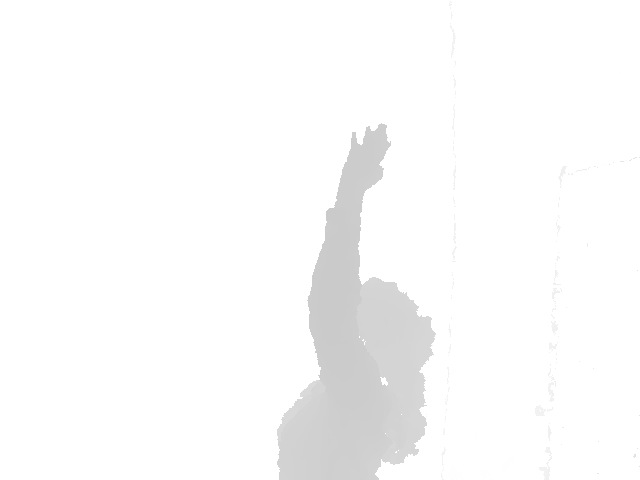hand: (337, 123, 392, 195)
head: (350, 275, 435, 395)
person: (275, 122, 436, 479)
